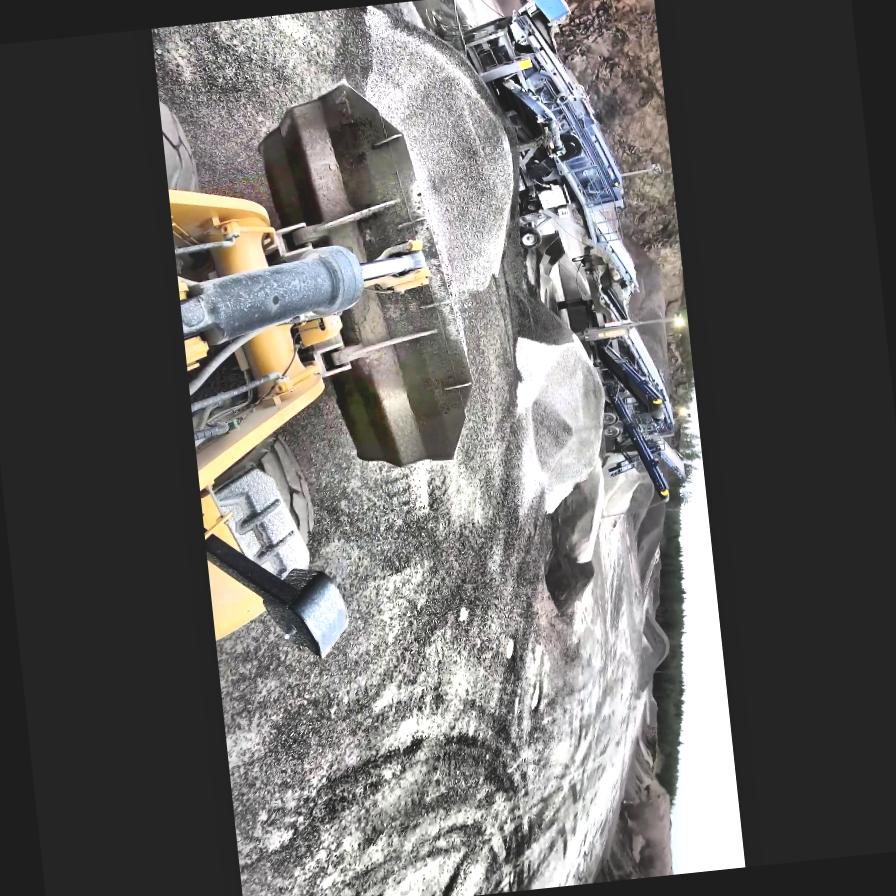anchor: (374, 234, 432, 298)
pile of gravel: (366, 0, 525, 304), (492, 244, 618, 511), (556, 696, 684, 886), (542, 472, 668, 656), (616, 774, 678, 880), (630, 492, 672, 578), (635, 610, 673, 690), (640, 551, 668, 623), (638, 696, 664, 765)
